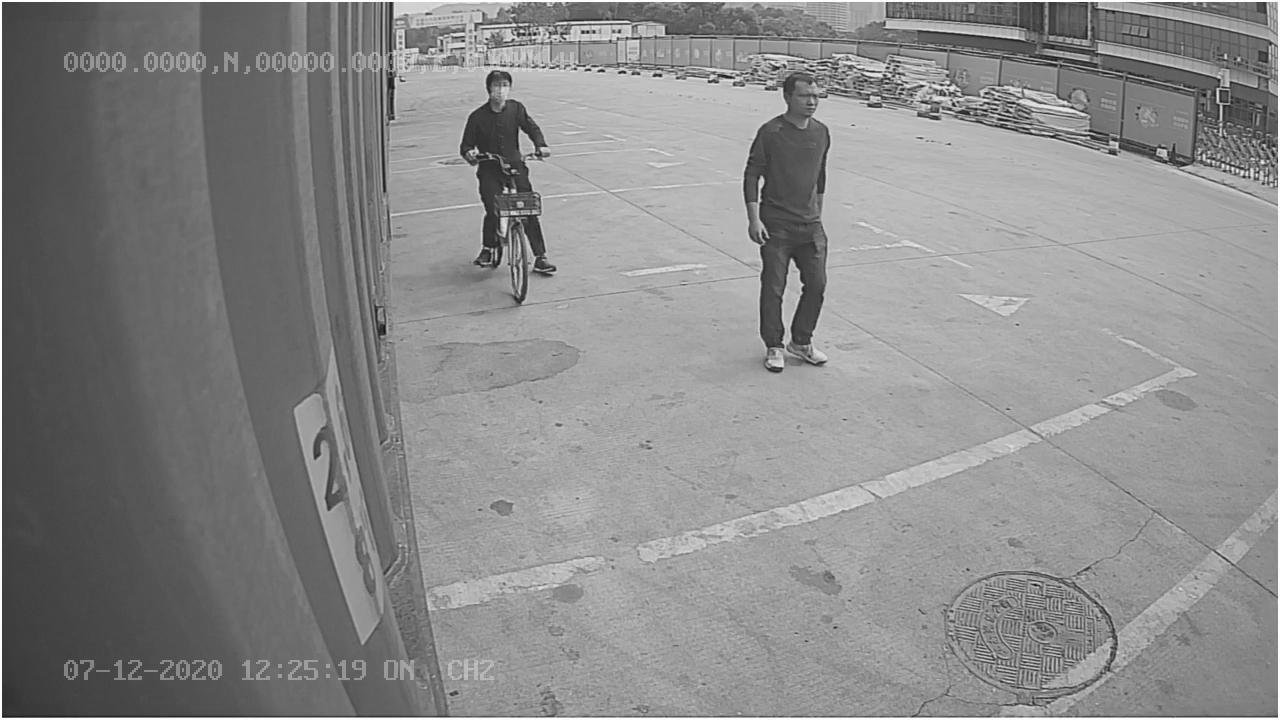person: (740, 65, 836, 378)
